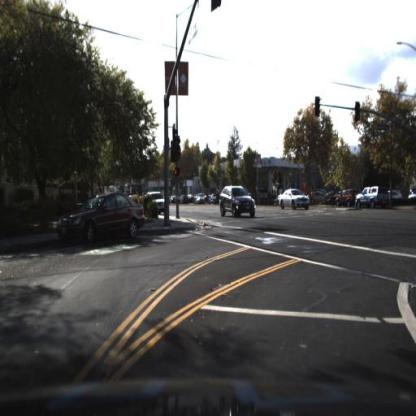car: (58, 192, 146, 252), (220, 187, 257, 219), (356, 185, 391, 211), (279, 189, 311, 212), (146, 193, 169, 214), (336, 189, 359, 209)
